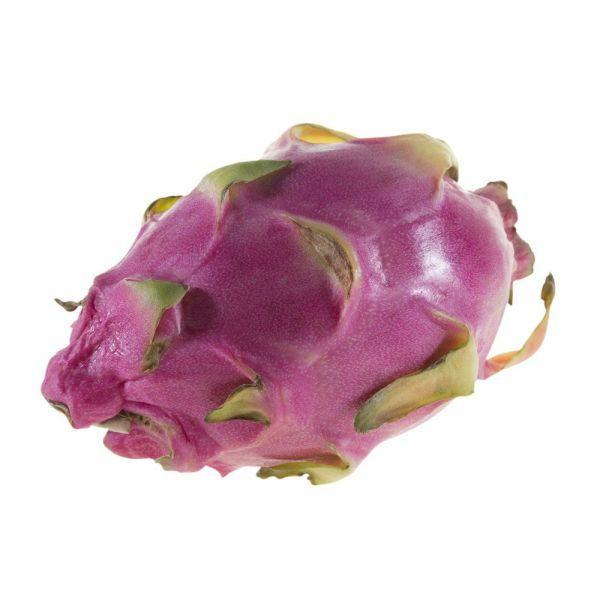dragon-fruit: (36, 133, 522, 473)
